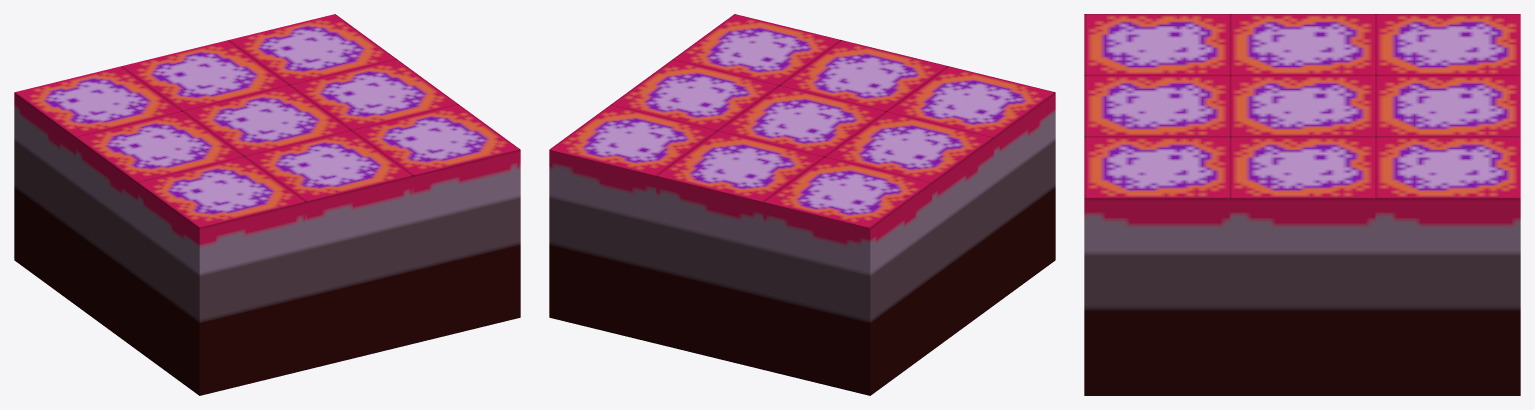
The model's file is MOD_TerrainModule_Experimental_02.fbx.
The picture shows the model from 3 angles, left to right: view 1: azimuth 30°, elevation 25°; view 2: azimuth 150°, elevation 25°; view 3: azimuth 270°, elevation 25°; orthographic projection. The views are drawn at different scales.
Parts seen in each view (by area): view 1: Cube.008, Cube.004, Cube.005, Cube.006, Cube.007, Cube.001, Cube, Cube.002, Cube.003; view 2: Cube.007, Cube, Cube.003, Cube.006, Cube.008, Cube.001, Cube.005, Cube.002, Cube.004; view 3: Cube.001, Cube, Cube.004, Cube.002, Cube.006, Cube.005, Cube.003, Cube.007, Cube.008.
Boxes of the visible parts, left/top/right/bottom form: Cube.008: left=138, top=156, right=306, bottom=395; Cube.004: left=352, top=104, right=520, bottom=343; Cube.005: left=245, top=130, right=413, bottom=369; Cube.006: left=76, top=111, right=243, bottom=350; Cube.007: left=14, top=66, right=181, bottom=304; Cube.001: left=290, top=59, right=458, bottom=175; Cube: left=228, top=14, right=396, bottom=130; Cube.002: left=183, top=85, right=350, bottom=201; Cube.003: left=121, top=40, right=288, bottom=111; Cube.007: left=763, top=157, right=931, bottom=395; Cube: left=549, top=104, right=716, bottom=343; Cube.003: left=656, top=131, right=823, bottom=369; Cube.006: left=825, top=111, right=993, bottom=350; Cube.008: left=887, top=66, right=1055, bottom=304; Cube.001: left=611, top=59, right=779, bottom=130; Cube.005: left=780, top=40, right=948, bottom=111; Cube.002: left=718, top=85, right=886, bottom=156; Cube.004: left=673, top=14, right=841, bottom=85; Cube.001: left=1229, top=137, right=1375, bottom=395; Cube: left=1375, top=137, right=1520, bottom=395; Cube.004: left=1084, top=137, right=1229, bottom=395; Cube.002: left=1229, top=75, right=1375, bottom=198; Cube.006: left=1229, top=14, right=1375, bottom=136; Cube.005: left=1084, top=75, right=1229, bottom=198; Cube.003: left=1375, top=75, right=1520, bottom=198; Cube.007: left=1375, top=14, right=1520, bottom=136; Cube.008: left=1084, top=14, right=1229, bottom=136.
Bounding box in the file's own units: 300 × 150 × 300.
1 material, 1 textured.
